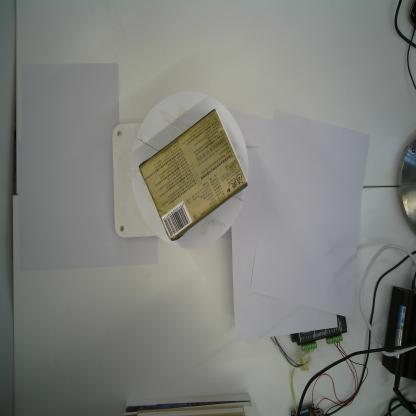Tissue: (135, 107, 248, 244)
